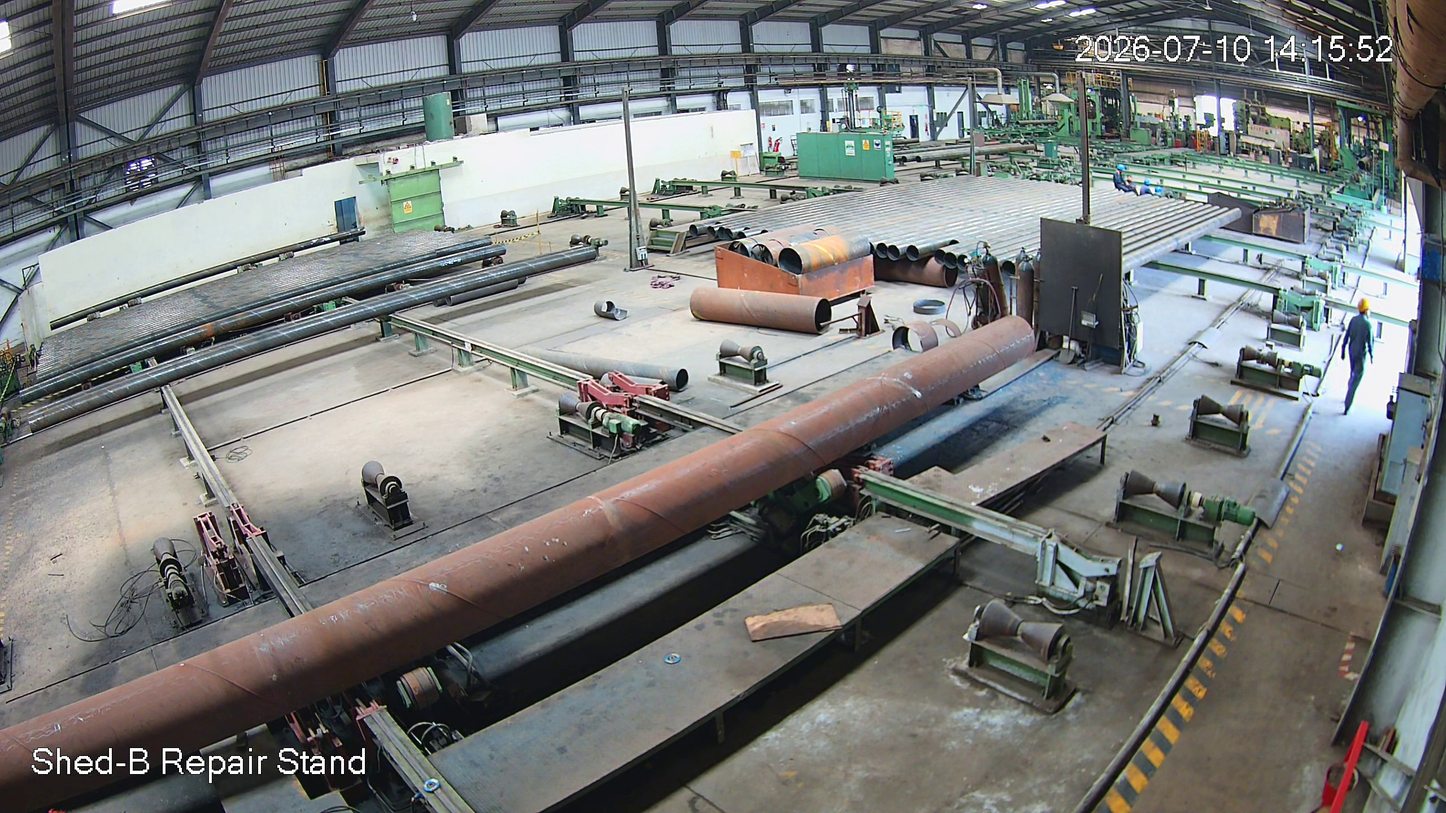Helmet: (1357, 290, 1375, 331)
Person: (1350, 295, 1382, 418)
